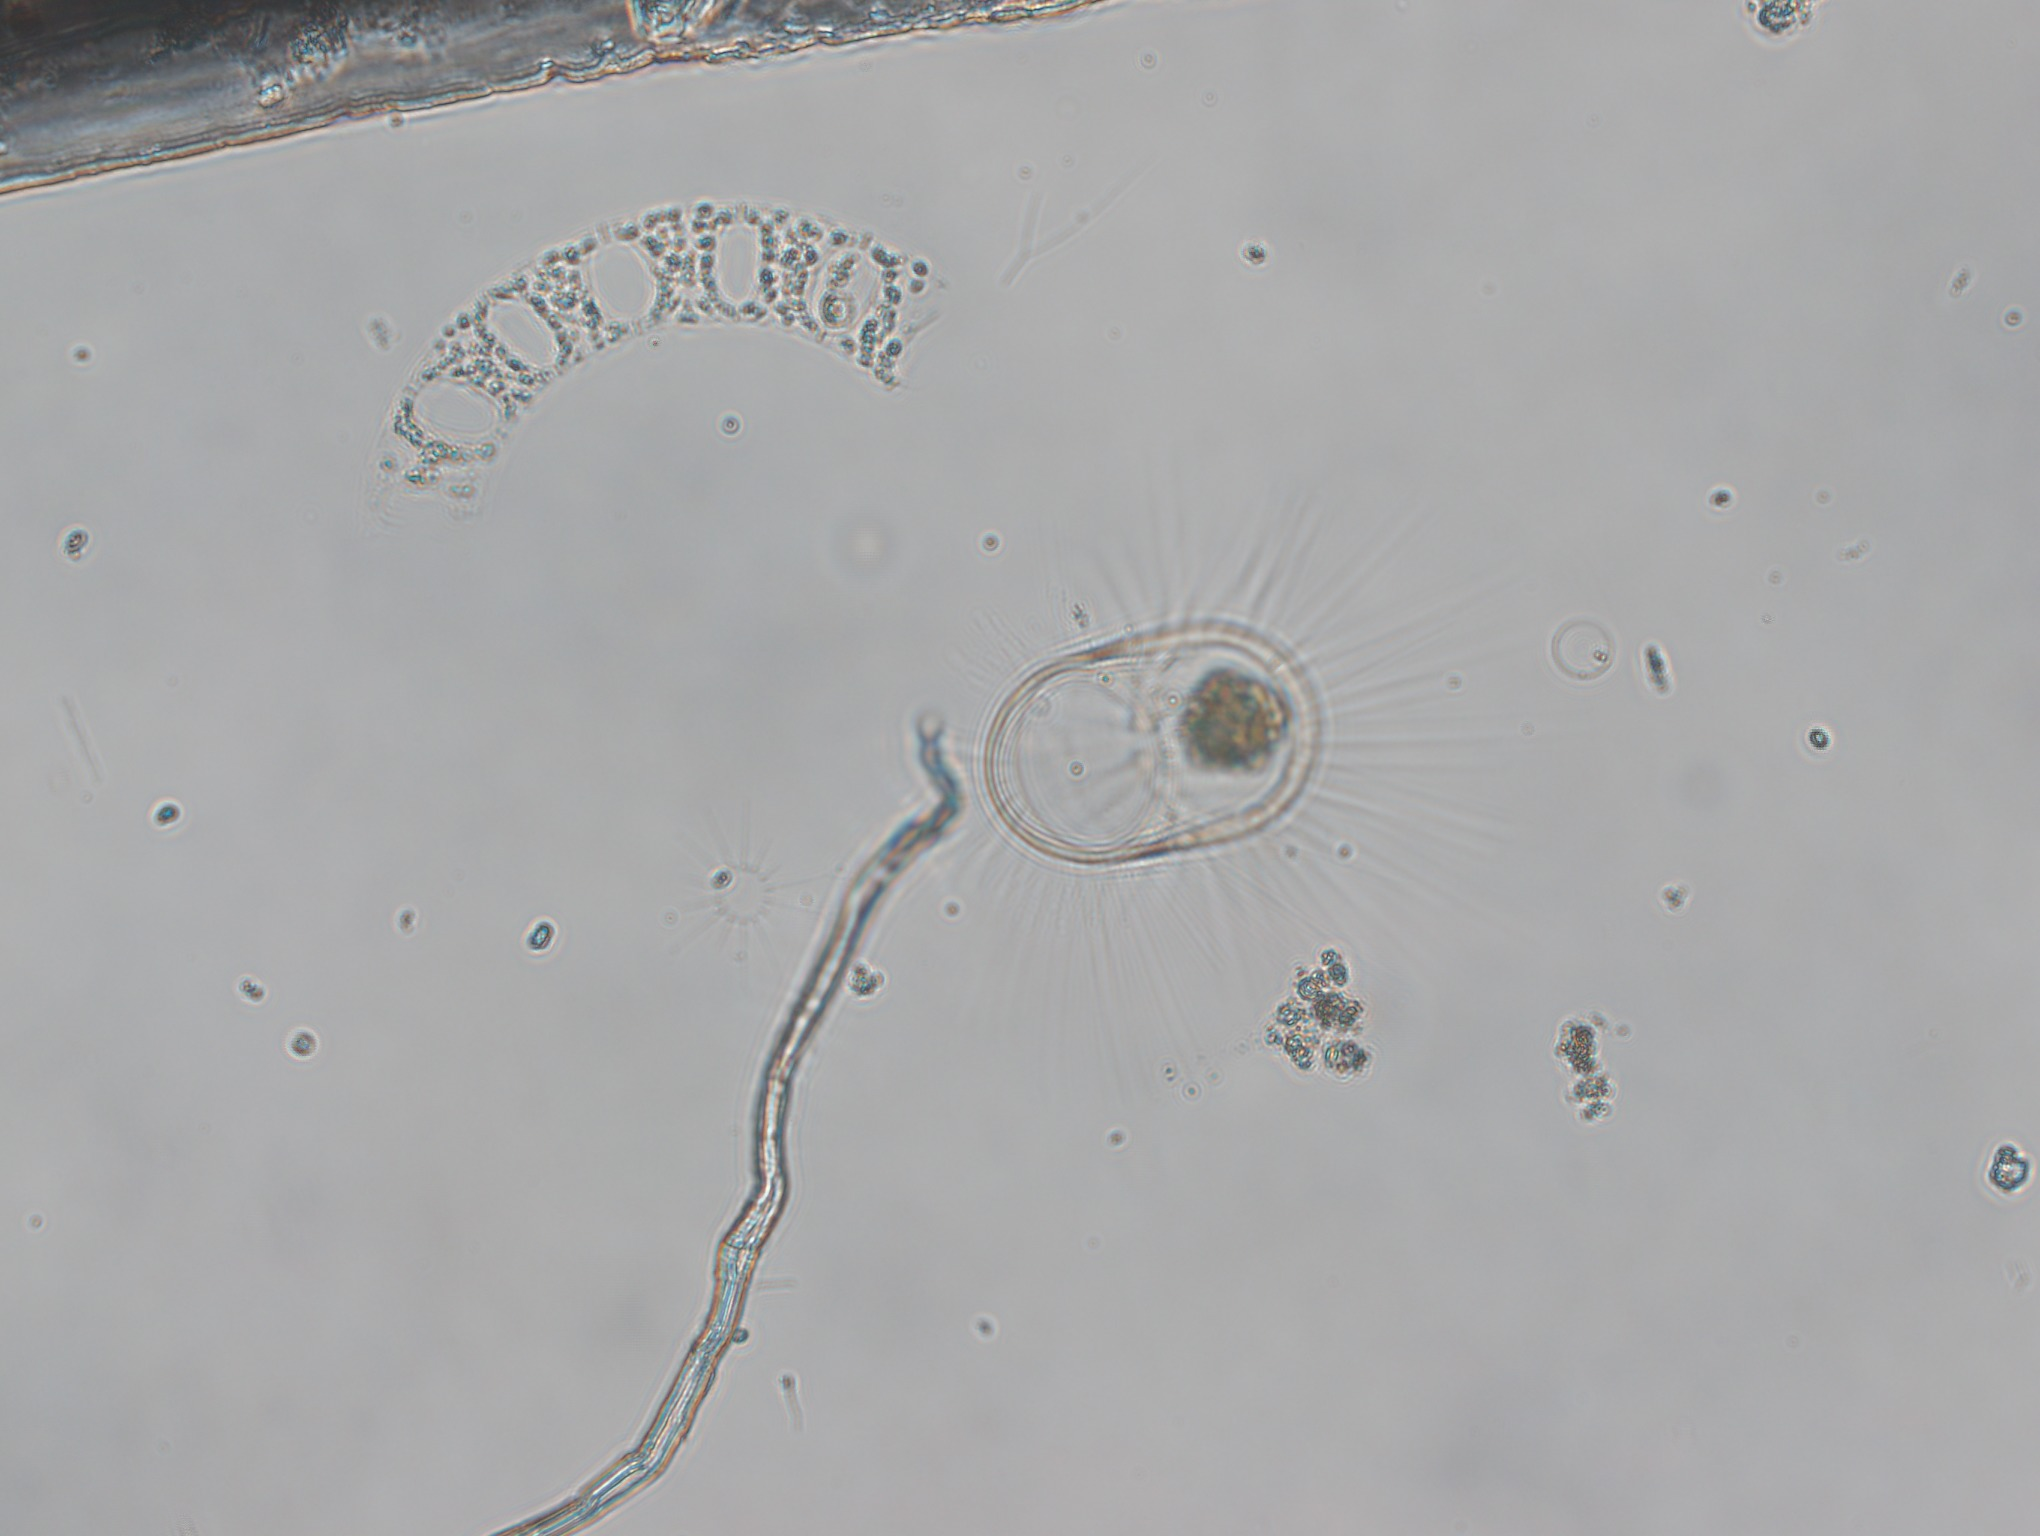bacteriastrum: (655, 808, 835, 986)
corethron: (890, 476, 1543, 1026)
eucampia: (368, 202, 948, 507)
